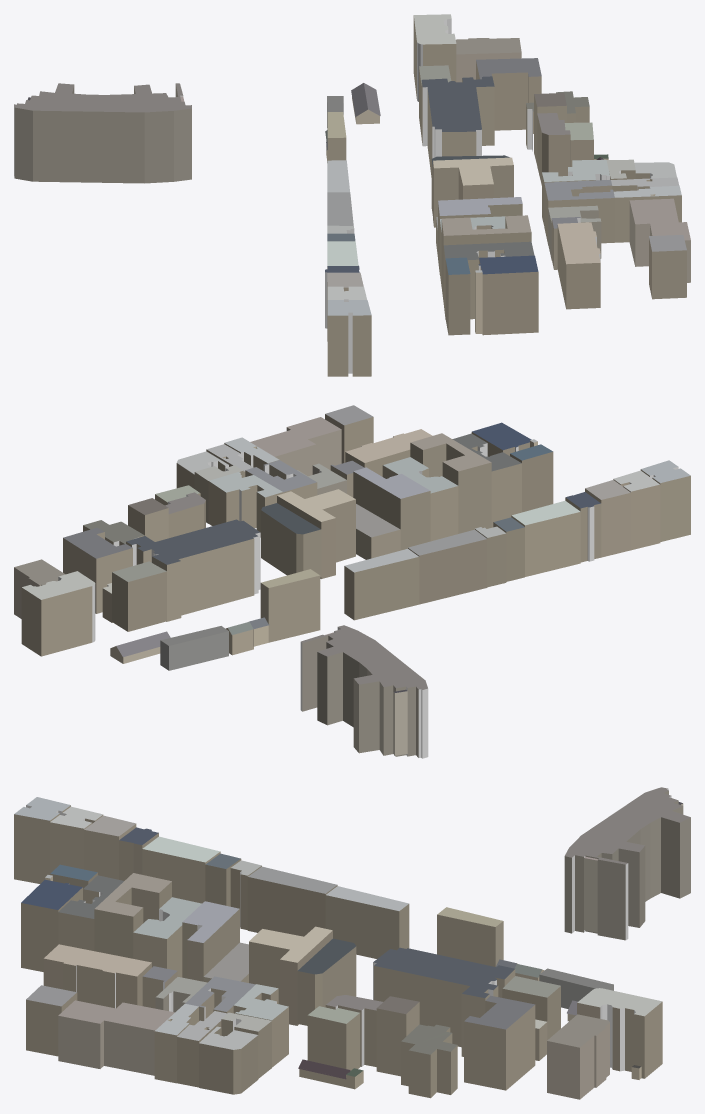
3 views of the same model, one above another, from view 1: azimuth 30°, elevation 25°; view 2: azimuth 150°, elevation 25°; view 3: azimuth 270°, elevation 25° (orthographic). The views are drawn at different scales.
Visible parts, largest first — view 1: tuile; view 2: tuile; view 3: tuile.
Boxes of the visible parts, bbox=[...] form: tuile: bbox=[14, 14, 690, 376]; tuile: bbox=[14, 405, 690, 758]; tuile: bbox=[14, 787, 690, 1099].
Bounding box in the file's own units: 217 × 35.38 × 256.
